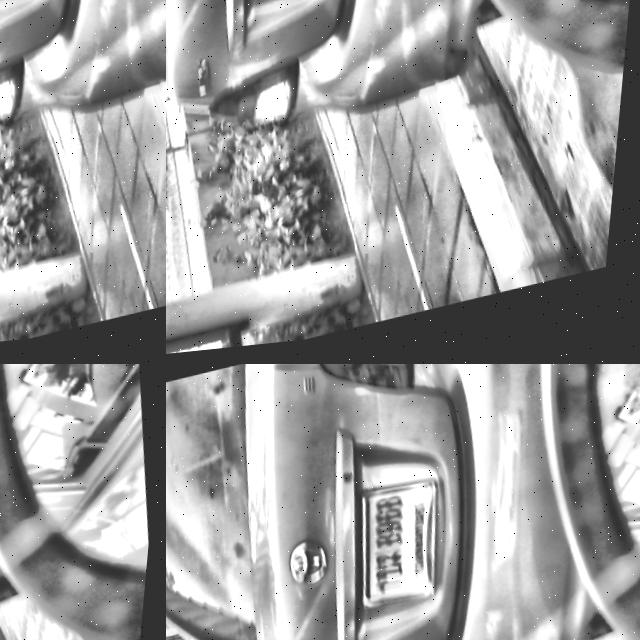license-plate: (344, 476, 463, 622)
